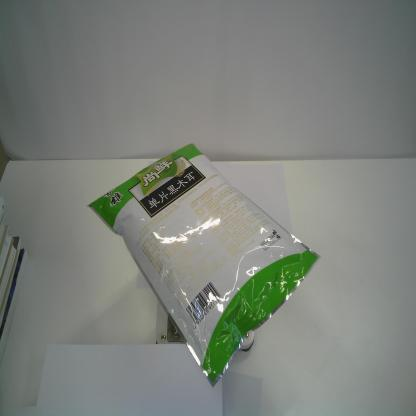Dried Food: (87, 143, 320, 387)
